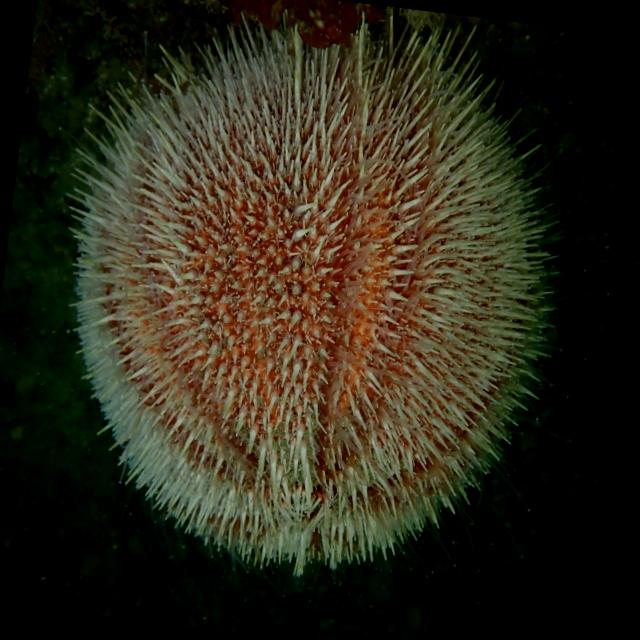Deniz Kestanesi: (6, 0, 640, 611)
